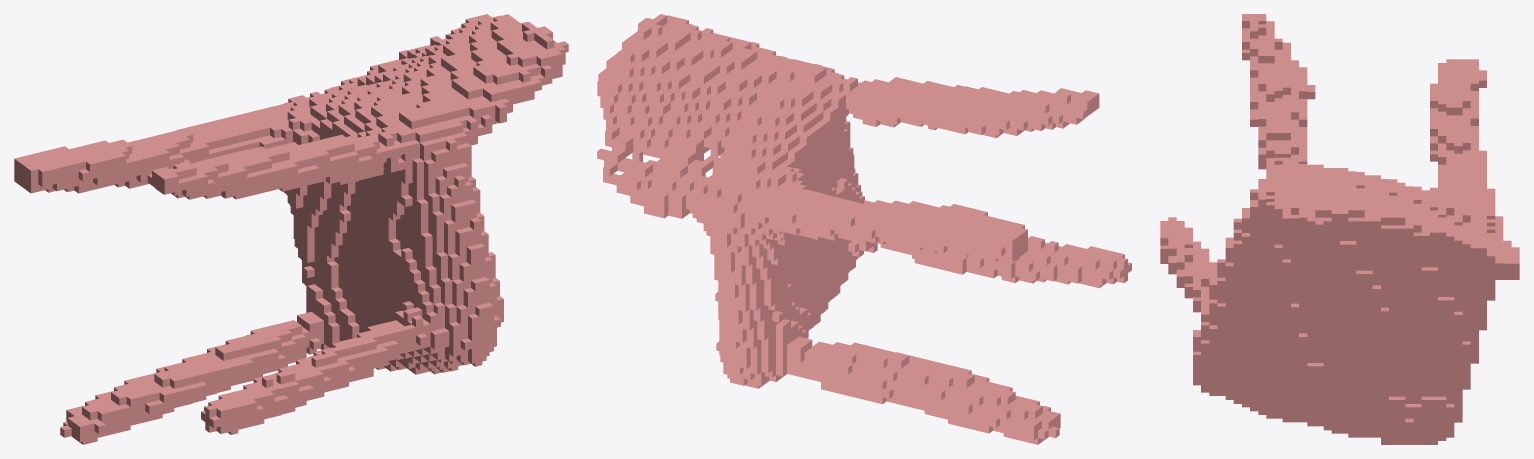
The model's file is chair_2.obj.
The picture shows the model from 3 angles, left to right: view 1: azimuth 30°, elevation 25°; view 2: azimuth 150°, elevation 25°; view 3: azimuth 270°, elevation 25°; orthographic projection. The views are drawn at different scales.
Parts seen in each view (by area): view 1: chair_3; view 2: chair_3; view 3: chair_3.
Part boxes in pixels (bbox=[...]): chair_3: bbox=[14, 14, 568, 444]; chair_3: bbox=[597, 14, 1131, 444]; chair_3: bbox=[1160, 14, 1519, 444].
Bounding box in the file's own units: 65 × 42 × 44.
